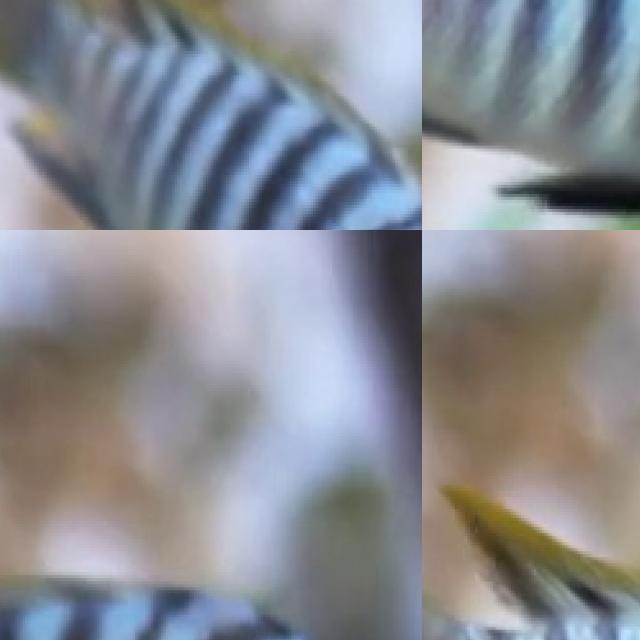fish: (0, 0, 422, 230), (422, 0, 640, 230)
